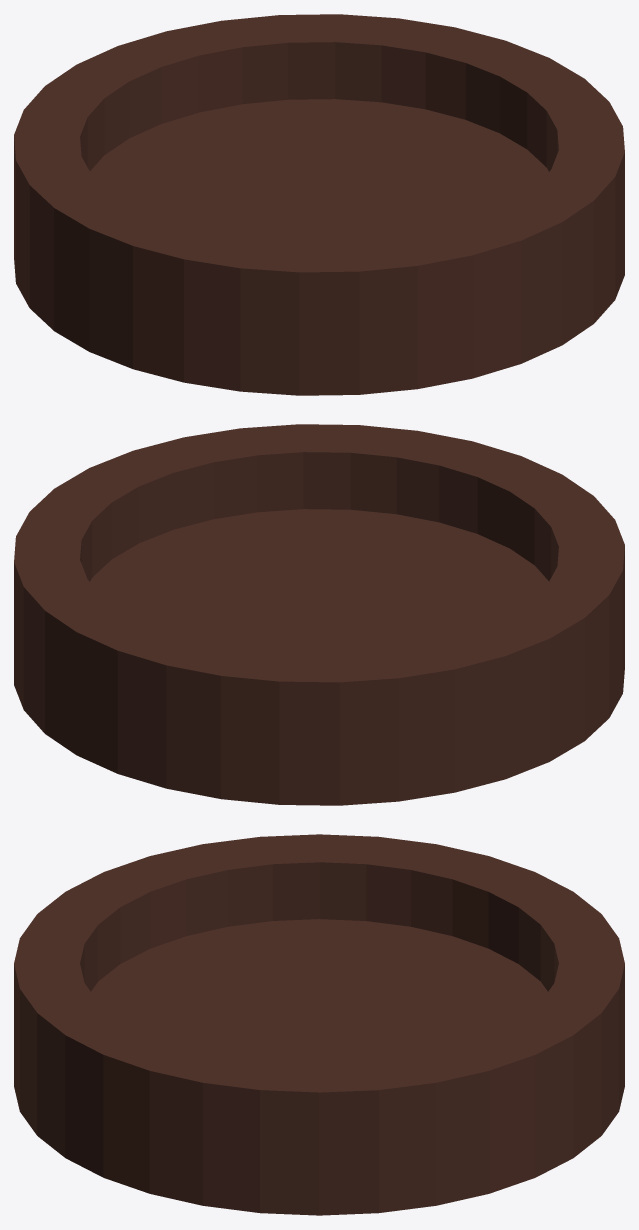
Rendered from explosion.glb.
3 views of the same model, one above another, from view 1: azimuth 30°, elevation 25°; view 2: azimuth 150°, elevation 25°; view 3: azimuth 270°, elevation 25° (orthographic).
Parts seen in each view (by area): view 1: 柱体; view 2: 柱体; view 3: 柱体.
Part boxes in pixels (bbox=[...]): 柱体: bbox=[14, 14, 624, 395]; 柱体: bbox=[14, 424, 624, 805]; 柱体: bbox=[14, 834, 624, 1215].
Bounding box in the file's own units: 0.9 × 0.2 × 0.9.
